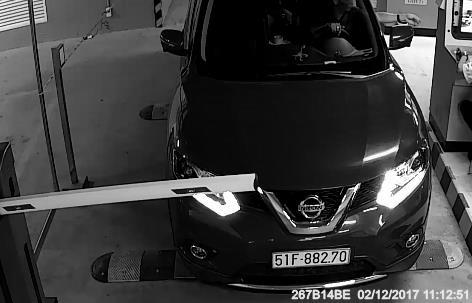License-plate: (265, 240, 358, 276)
